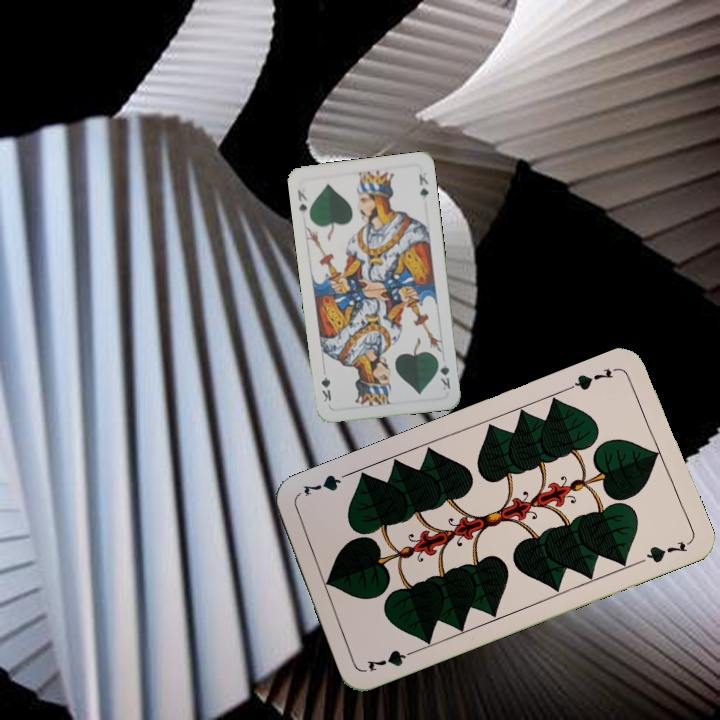G7: (363, 644, 421, 674), (565, 363, 622, 393)
GK: (433, 354, 453, 393), (293, 186, 310, 215)
